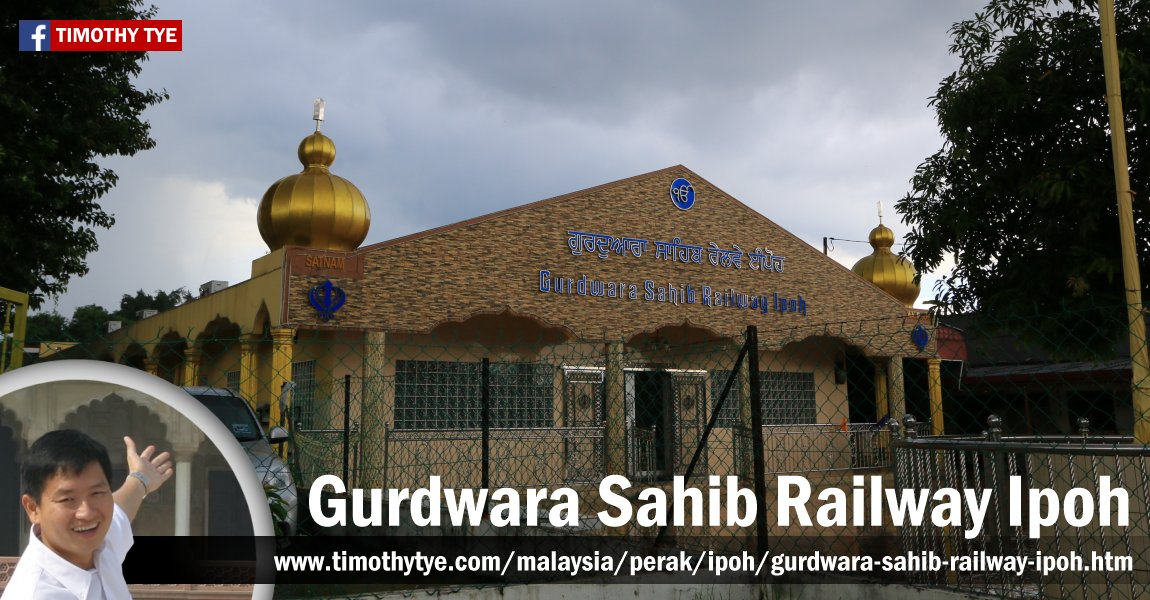Gurdwara: (86, 102, 943, 499)
